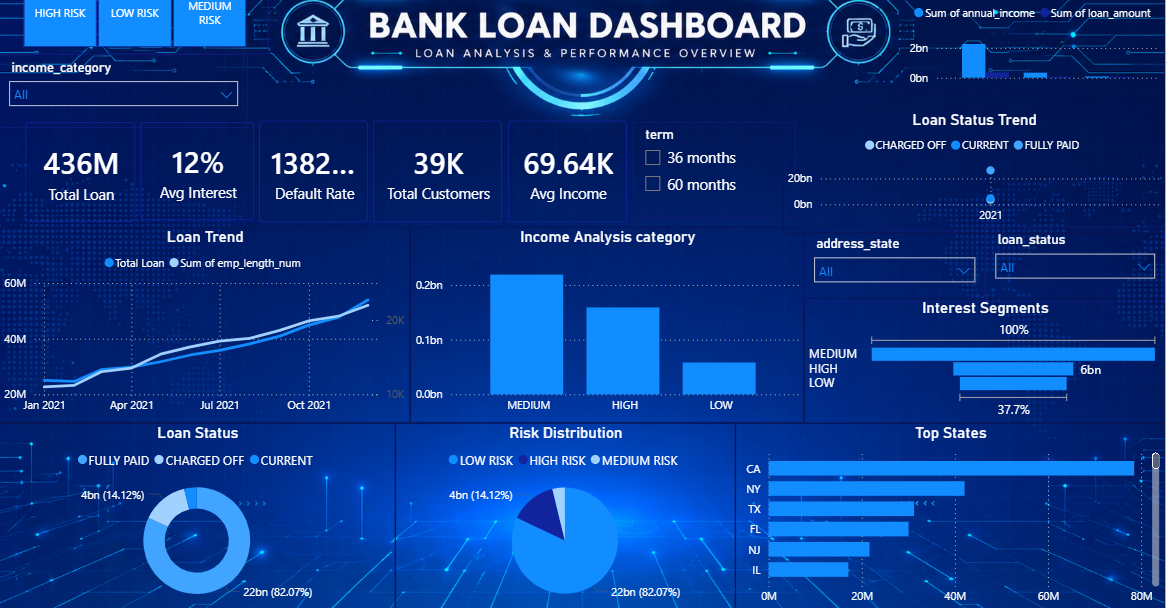

This screenshot's page, from the dashboard's own definition file:
{"tool":"powerbi","page":{"name":"Page 1","canvas":[1280,720],"ordinal":0},"visuals":[{"type":"cardVisual","fields":{"Data":["bank_loan_project loan_cleaned.Total Loan"]},"box":[0,150.9,179.8,168.8],"z":0},{"type":"cardVisual","fields":{"Data":["bank_loan_project loan_cleaned.Total Customers"]},"box":[381.5,149.6,200.3,170.2],"z":1000},{"type":"cardVisual","fields":{"Data":["bank_loan_project loan_cleaned.Avg Interest"]},"box":[126.2,150.9,183.9,166],"z":2000},{"type":"cardVisual","fields":{"Data":["bank_loan_project loan_cleaned.Default Rate"]},"box":[256.6,149.6,178.4,170.2],"z":3000},{"type":"cardVisual","fields":{"Data":["bank_loan_project loan_cleaned.Avg Income"]},"box":[529.7,149.6,189.4,170.2],"z":4000},{"type":"donutChart","title":"Loan Status","fields":{"Category":["bank_loan_project loan_cleaned.loan_status"],"Y":["Sum(bank_loan_project loan_cleaned.id)"]},"box":[0,510.5,435,209.9],"z":5000},{"type":"pieChart","title":"Risk Distribution","fields":{"Y":["Sum(bank_loan_project loan_cleaned.id)"],"Category":["bank_loan_project loan_cleaned.loan_risk"]},"box":[435,510.5,373.2,209.9],"z":6000},{"type":"barChart","title":"Top States","fields":{"Category":["bank_loan_project loan_cleaned.address_state"],"Y":["bank_loan_project loan_cleaned.Total Loan"]},"box":[808.2,510.5,472,209.9],"z":7000},{"type":"lineChart","title":"Loan Trend","fields":{"Category":["bank_loan_project loan_cleaned.issue_date_clean.Variation.Date Hierarchy.Year","bank_loan_project loan_cleaned.issue_date_clean.Variation.Date Hierarchy.Month"],"Y":["bank_loan_project loan_cleaned.Total Loan"],"Y2":["Sum(bank_loan_project loan_cleaned.emp_length_num)"]},"box":[0,295,451.5,215.4],"z":8000},{"type":"columnChart","title":"Income Analysis category","fields":{"Category":["bank_loan_project loan_cleaned.income_category"],"Y":["bank_loan_project loan_cleaned.Total Loan"]},"box":[451.5,295,432.2,215.4],"z":9000},{"type":"funnel","title":"Interest Segments","fields":{"Category":["bank_loan_project loan_cleaned.interest_category"],"Y":["Sum(bank_loan_project loan_cleaned.id)"]},"box":[883.7,373.2,396.6,137.2],"z":10000},{"type":"slicer","fields":{"Values":["bank_loan_project loan_cleaned.address_state"]},"box":[883.7,299.1,199,78.2],"z":11000},{"type":"slicer","fields":{"Values":["bank_loan_project loan_cleaned.loan_status"]},"box":[1082.7,295,197.6,82.3],"z":12000},{"type":"slicer","fields":{"Values":["bank_loan_project loan_cleaned.loan_risk"]},"box":[0,0,296.4,105.7],"z":13000},{"type":"slicer","fields":{"Values":["bank_loan_project loan_cleaned.income_category"]},"box":[0,105.7,273.1,81],"z":14000},{"type":"slicer","fields":{"Values":["bank_loan_project loan_cleaned.term"]},"box":[695.7,179.8,178.4,105.7],"z":15000},{"type":"clusteredColumnChart","fields":{"Y":["Sum(bank_loan_project loan_cleaned.annual_income)","Sum(bank_loan_project loan_cleaned.loan_amount)"],"Category":["bank_loan_project loan_cleaned.loan_risk"]},"box":[993.5,1.4,286.8,145.5],"z":16000},{"type":"stackedAreaChart","title":"Loan Status Trend","fields":{"Category":["bank_loan_project loan_cleaned.issue_date_clean.Variation.Date Hierarchy.Year","bank_loan_project loan_cleaned.issue_date_clean.Variation.Date Hierarchy.Quarter","bank_loan_project loan_cleaned.issue_date_clean.Variation.Date Hierarchy.Month","bank_loan_project loan_cleaned.issue_date_clean.Variation.Date Hierarchy.Day"],"Y":["Sum(bank_loan_project loan_cleaned.id)"],"Series":["bank_loan_project loan_cleaned.loan_status"]},"box":[860.4,166,419.9,135.8],"z":17000}]}

Visuals, with their boxes on the page's 1280x720 design canvas (x1, y1, x2, y2). These are canvas units, not pixel positions in the 1167x608 screenshot, which may show the page scaled, cropped or inside an application window:
cardVisual - bank_loan_project loan_cleaned.Total Loan: [0, 151, 180, 320]
cardVisual - bank_loan_project loan_cleaned.Total Customers: [382, 150, 582, 320]
cardVisual - bank_loan_project loan_cleaned.Avg Interest: [126, 151, 310, 317]
cardVisual - bank_loan_project loan_cleaned.Default Rate: [257, 150, 435, 320]
cardVisual - bank_loan_project loan_cleaned.Avg Income: [530, 150, 719, 320]
"Loan Status" donutChart: [0, 510, 435, 720]
"Risk Distribution" pieChart: [435, 510, 808, 720]
"Top States" barChart: [808, 510, 1280, 720]
"Loan Trend" lineChart: [0, 295, 452, 510]
"Income Analysis category" columnChart: [452, 295, 884, 510]
"Interest Segments" funnel: [884, 373, 1280, 510]
slicer - bank_loan_project loan_cleaned.address_state: [884, 299, 1083, 377]
slicer - bank_loan_project loan_cleaned.loan_status: [1083, 295, 1280, 377]
slicer - bank_loan_project loan_cleaned.loan_risk: [0, 0, 296, 106]
slicer - bank_loan_project loan_cleaned.income_category: [0, 106, 273, 187]
slicer - bank_loan_project loan_cleaned.term: [696, 180, 874, 286]
clusteredColumnChart - Sum(bank_loan_project loan_cleaned.annual_income) x Sum(bank_loan_project loan_cleaned.loan_amount): [994, 1, 1280, 147]
"Loan Status Trend" stackedAreaChart: [860, 166, 1280, 302]
